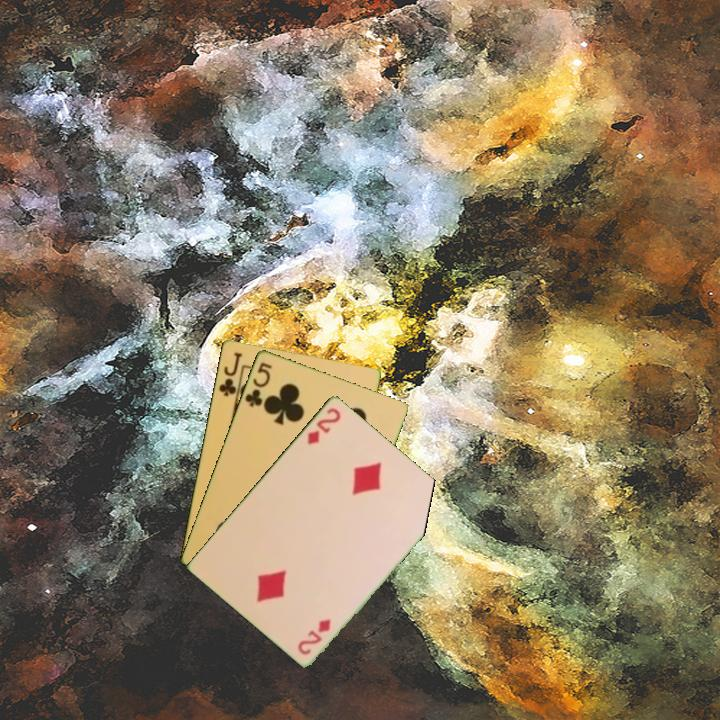2d: (304, 404, 344, 447), (294, 615, 334, 657)
5c: (241, 358, 275, 409)
Jc: (215, 348, 245, 399)
